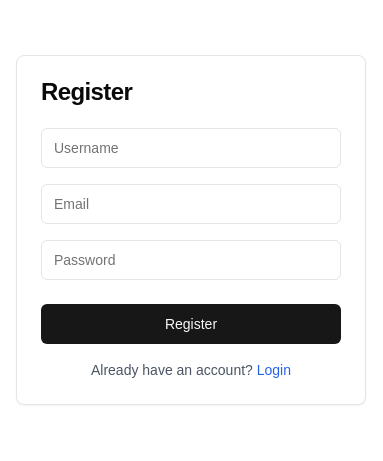
Test case: RegisterPage › validates password length
In the password field with placeholder "Password": x=191, y=260 [41,240,341,280], type "short"
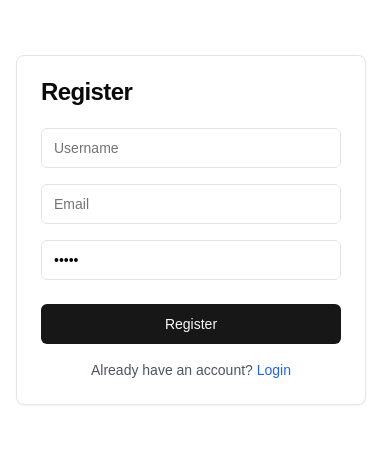
Click the button "Register": x=191, y=324 [41,304,341,344]
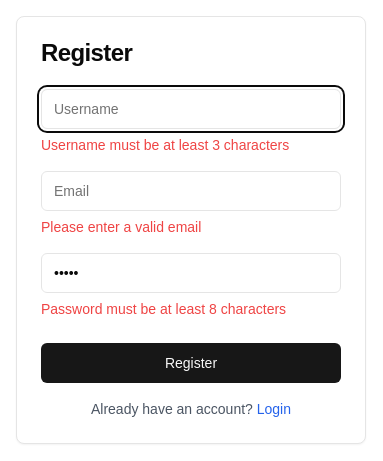
expect the text "Password must be at least 8 characters" is shown: met, box [41,301,286,317]
